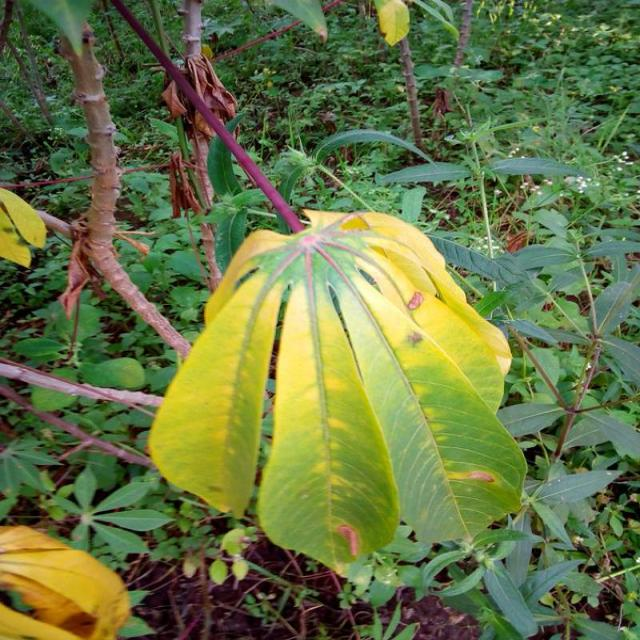cassava leaf: (146, 205, 530, 578)
